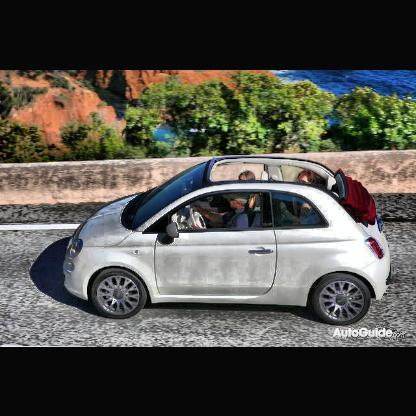FIAT 500 Convertible 2012: (64, 157, 392, 327)
